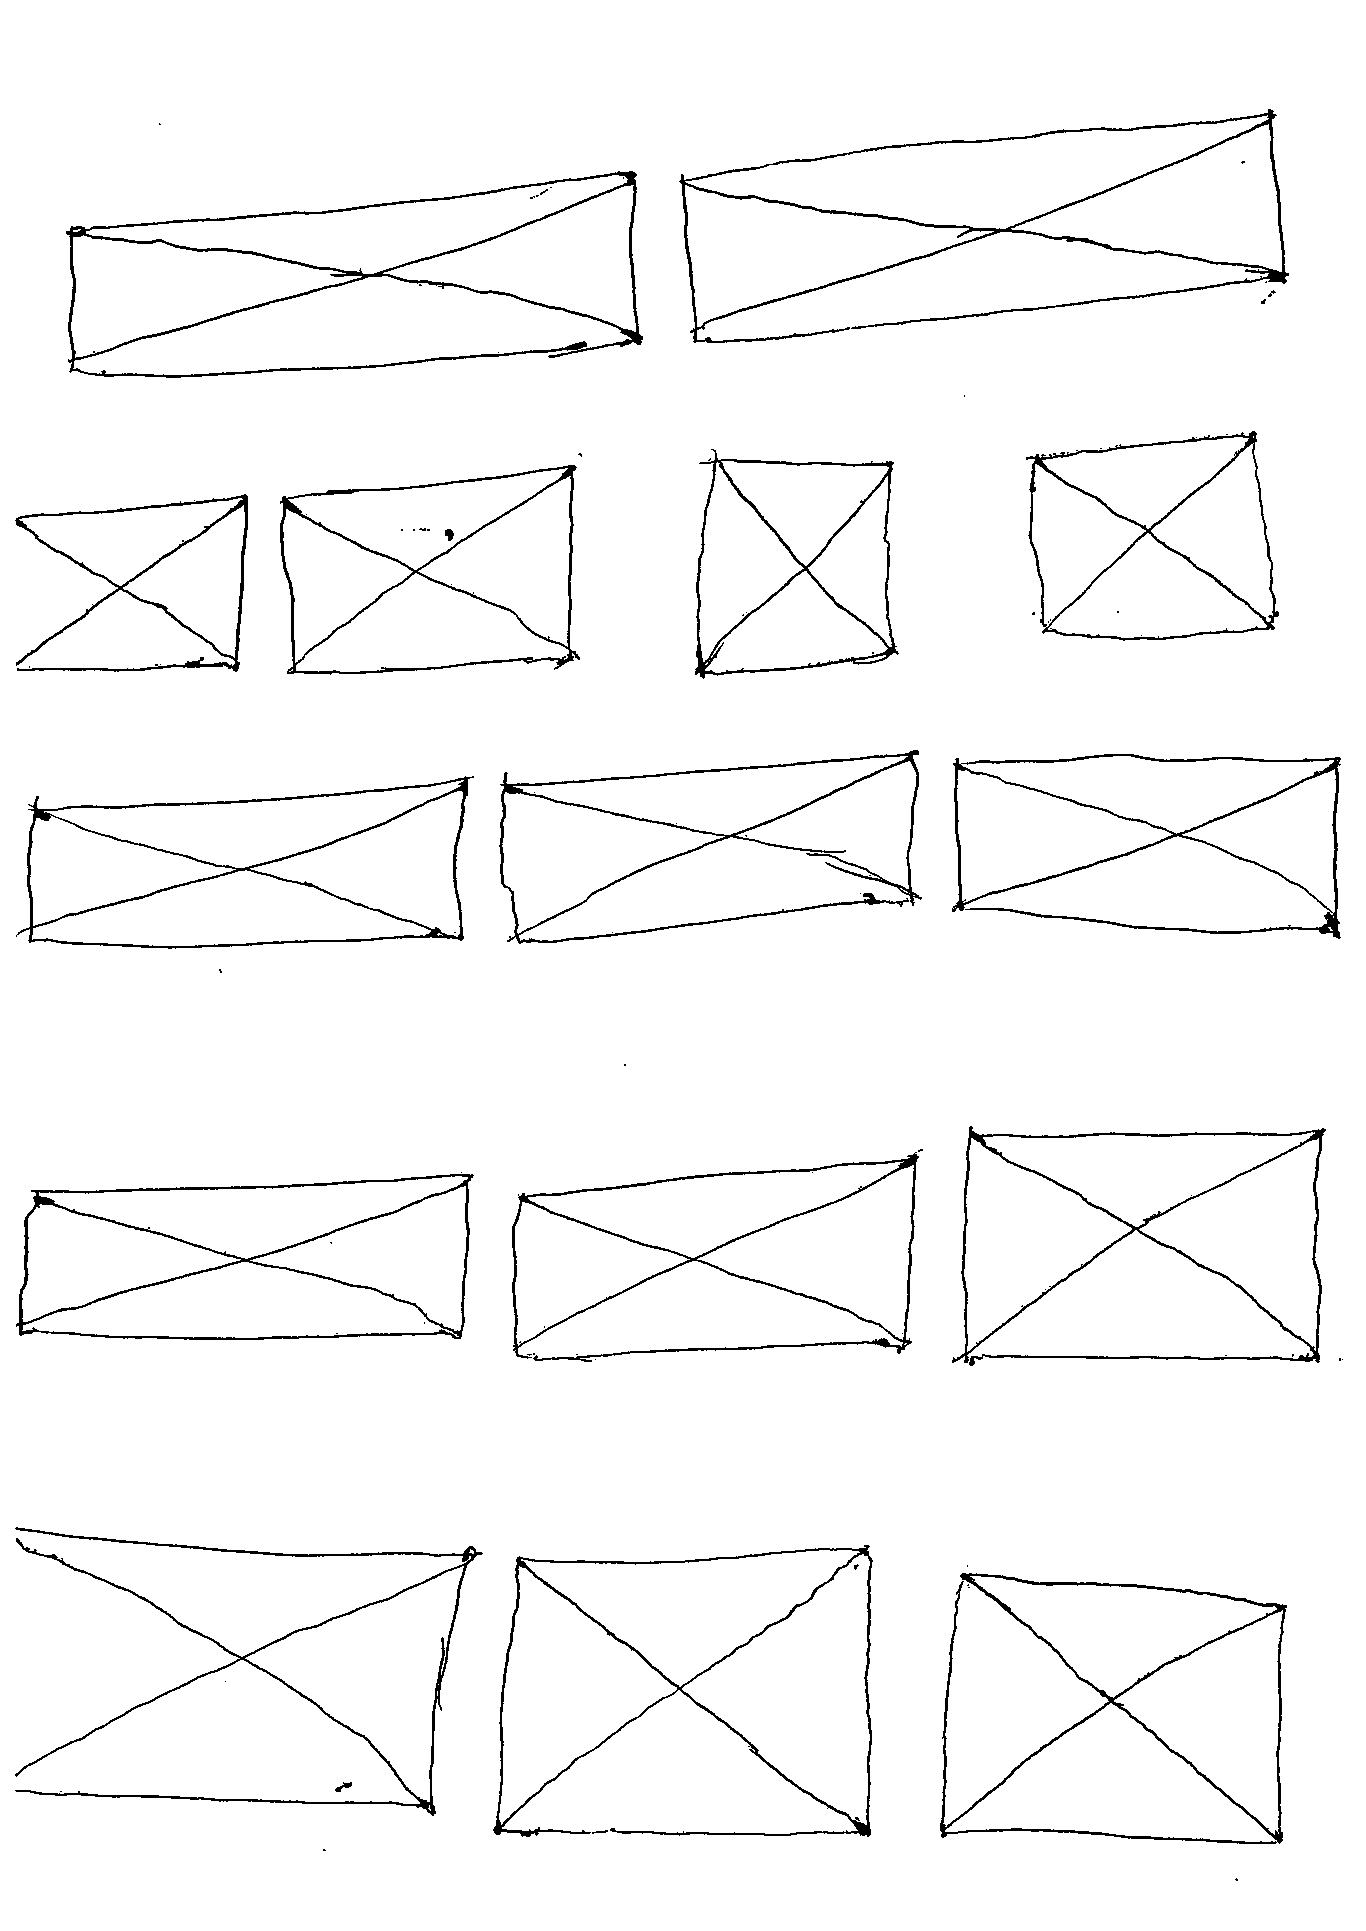Image: (677, 106, 1292, 347), (65, 166, 642, 379), (489, 1544, 877, 1847), (930, 1573, 1286, 1850), (956, 1124, 1333, 1374), (509, 1156, 924, 1365), (495, 750, 924, 946), (12, 1167, 478, 1347), (18, 773, 469, 951), (945, 753, 1348, 940), (273, 458, 577, 682), (1030, 432, 1283, 645), (689, 452, 903, 679)
